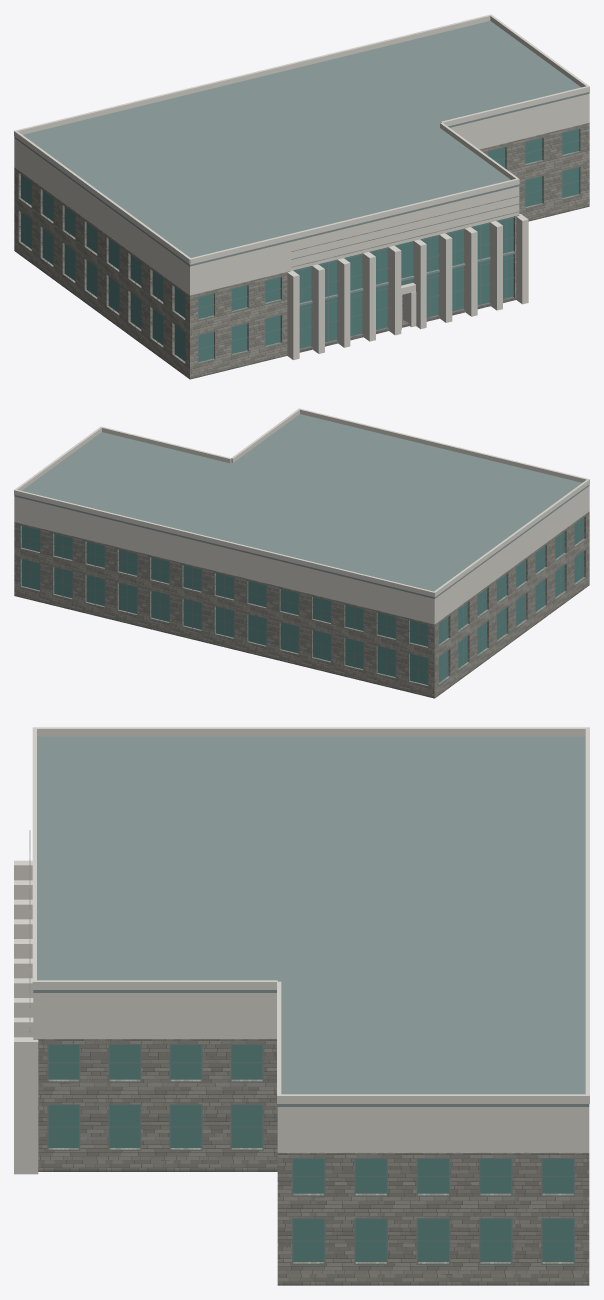
The picture shows the model from 3 angles, top to bottom: view 1: azimuth 30°, elevation 25°; view 2: azimuth 150°, elevation 25°; view 3: azimuth 270°, elevation 25°; orthographic projection. The views are drawn at different scales.
Parts seen in each view (by area): view 1: 418Memorial__roof, 418Memorial__cream, 418Memorial__stone, 418Memorial__glass, 418Memorial__frame, 418Memorial__rough; view 2: 418Memorial__roof, 418Memorial__stone, 418Memorial__cream, 418Memorial__glass, 418Memorial__frame, 418Memorial__rough; view 3: 418Memorial__roof, 418Memorial__stone, 418Memorial__cream, 418Memorial__glass, 418Memorial__frame, 418Memorial__rough.
Boxes of the visible parts, x1,y1,x2,y2 form: 418Memorial__roof: (14,21,589,305); 418Memorial__cream: (14,14,589,360); 418Memorial__stone: (14,122,589,377); 418Memorial__glass: (21,129,579,361); 418Memorial__frame: (18,128,581,364); 418Memorial__rough: (14,205,589,379); 418Memorial__roof: (14,414,589,598); 418Memorial__stone: (14,511,589,697); 418Memorial__cream: (14,408,589,624); 418Memorial__glass: (22,518,583,684); 418Memorial__frame: (20,515,586,686); 418Memorial__rough: (14,584,589,698); 418Memorial__roof: (33,736,589,1106); 418Memorial__stone: (29,830,589,1283); 418Memorial__cream: (14,727,589,1174); 418Memorial__glass: (48,1045,573,1261); 418Memorial__frame: (47,1044,574,1264); 418Memorial__rough: (38,1169,589,1285).
Bounding box in the file's own units: 44.91 × 10.79 × 29.64.
6 materials, 2 textured.
